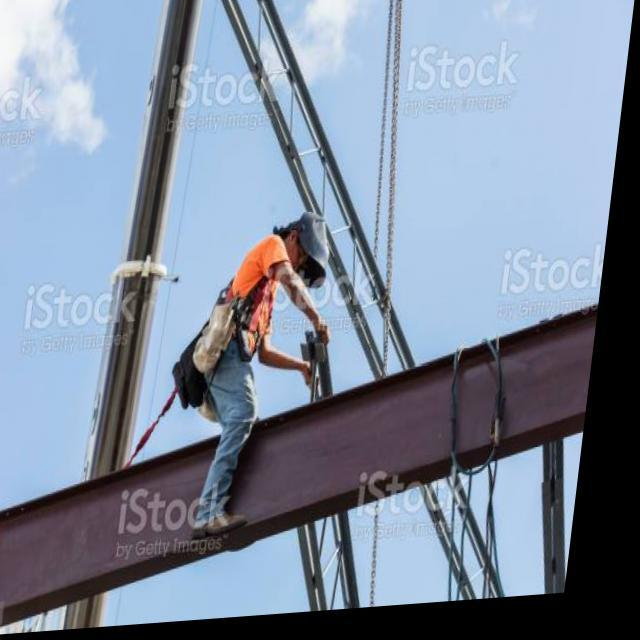belt: (216, 239, 290, 367)
